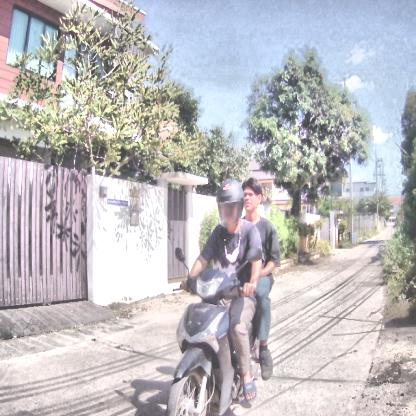not_wear: (242, 179, 263, 218)
wear: (216, 180, 242, 230)
